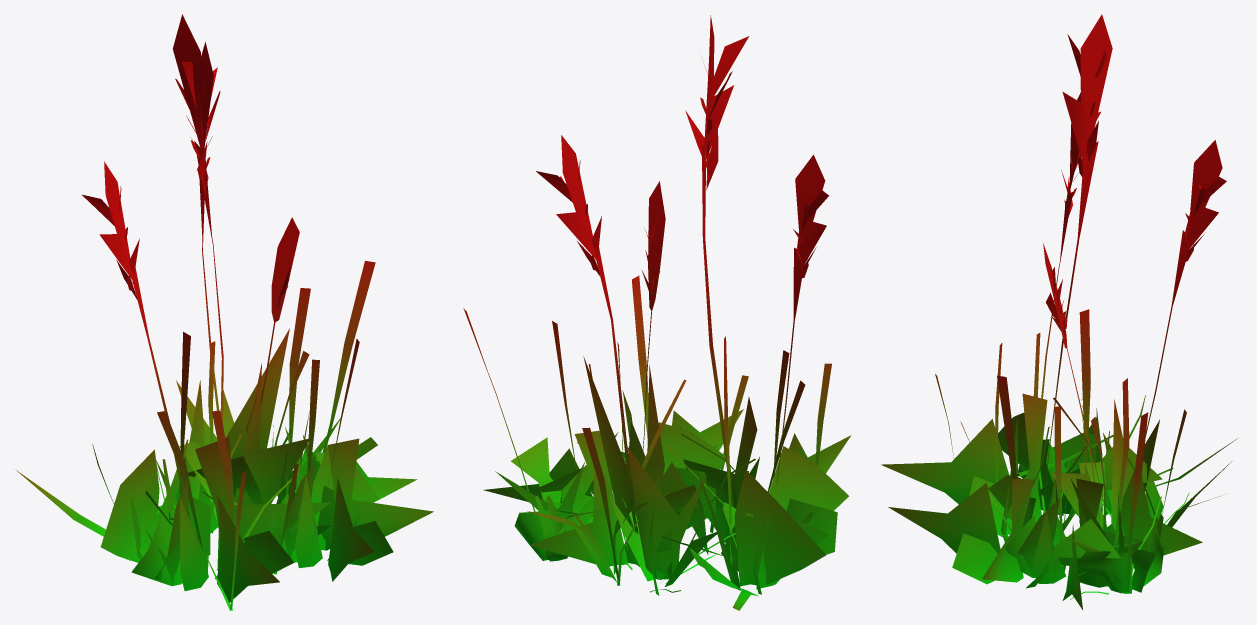
Rendered from Tundra Grass_LOD5_Var17_wk2oaeyqx.fbx.
3 renders of one model, left to right at view 1: azimuth 30°, elevation 25°; view 2: azimuth 150°, elevation 25°; view 3: azimuth 270°, elevation 25°, orthographic. The views are drawn at different scales.
Parts seen in each view (by area): view 1: _ygda_Var17_LOD5; view 2: _ygda_Var17_LOD5; view 3: _ygda_Var17_LOD5.
Part boxes in pixels (x1=…): _ygda_Var17_LOD5: x1=16, y1=14, x2=433, y2=610; _ygda_Var17_LOD5: x1=463, y1=15, x2=851, y2=610; _ygda_Var17_LOD5: x1=881, y1=14, x2=1237, y2=609.
Size of the model in its own units: 40.68 by 63.04 by 40.11.
